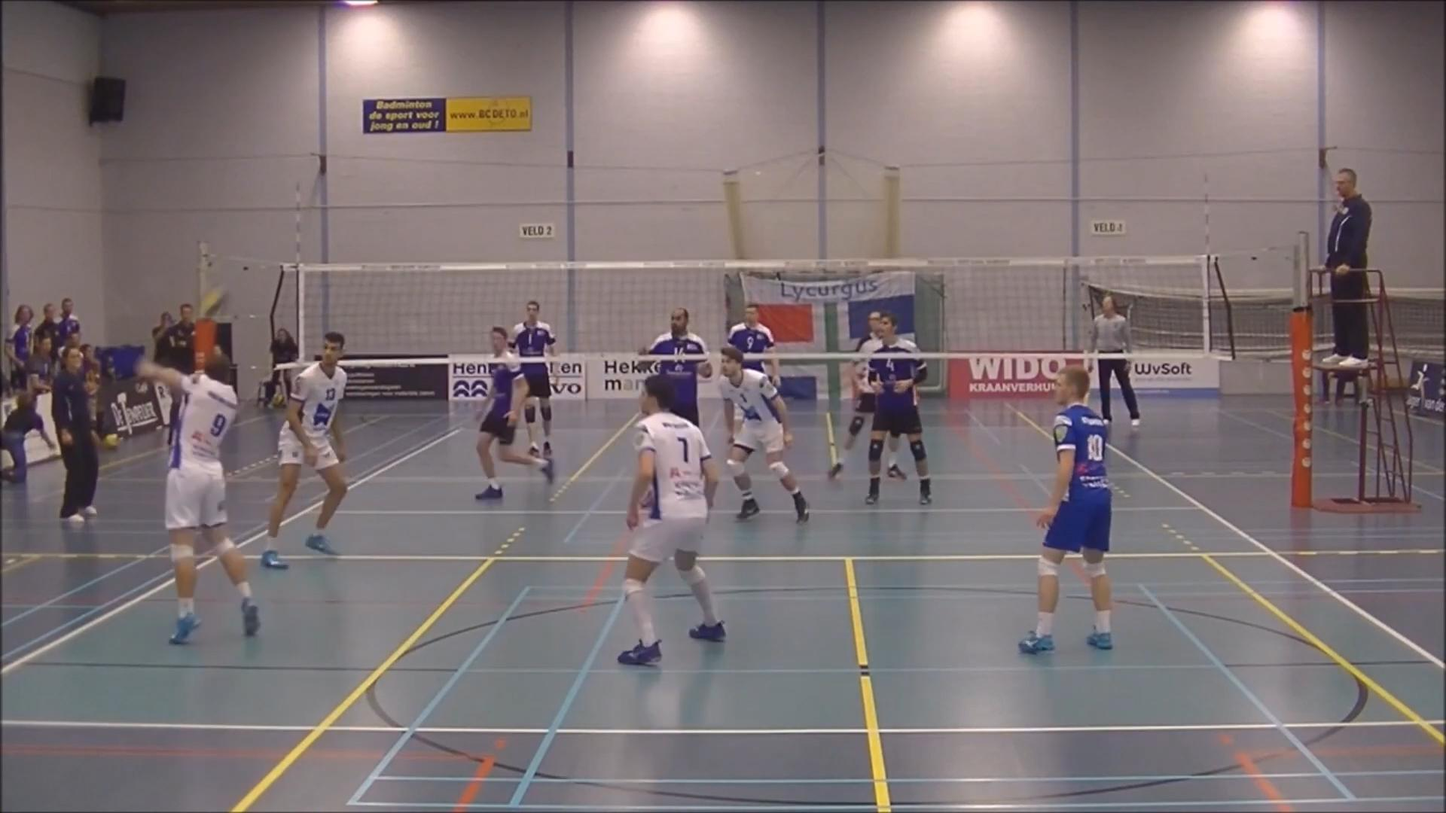ricezione: (130, 347, 266, 649)
